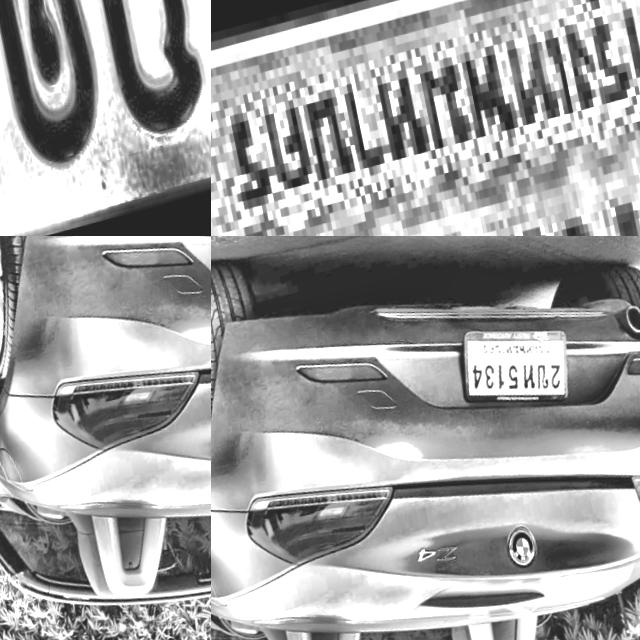license-plate: (211, 0, 640, 236), (0, 0, 211, 236), (451, 309, 577, 438)
